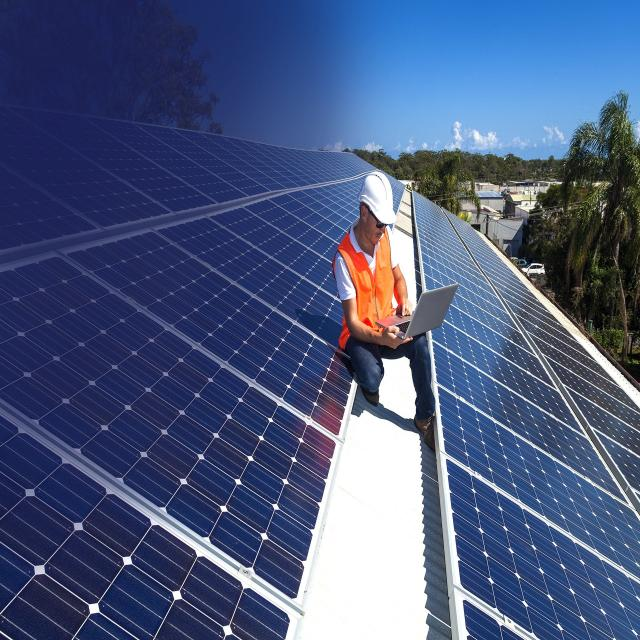clean-solar-panel: (0, 105, 371, 638), (412, 193, 640, 639)
